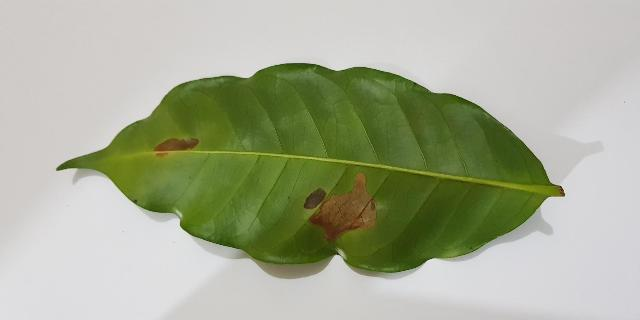cercospora: (303, 172, 376, 242), (154, 138, 198, 157)
